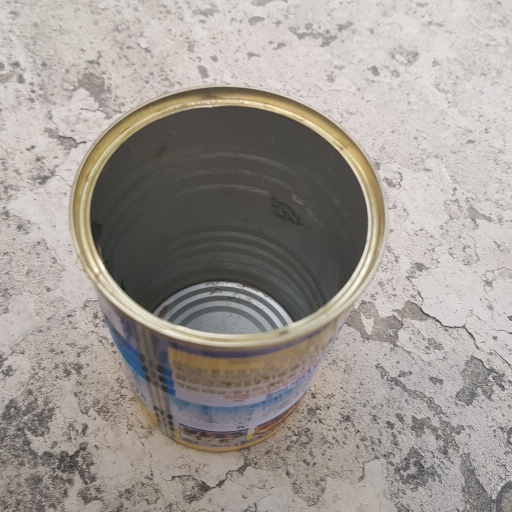Metal_1: (68, 84, 388, 453)
